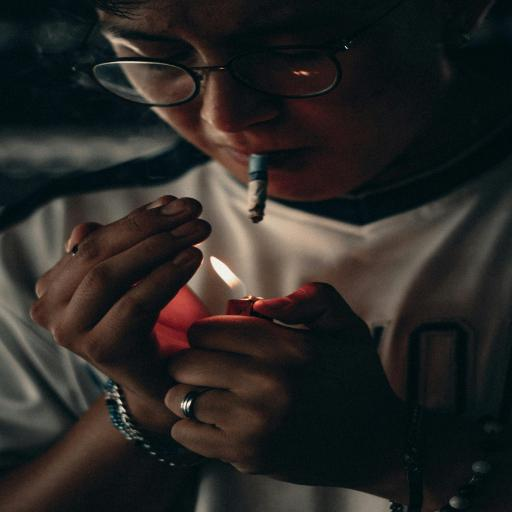membakar rokok: (119, 111, 370, 354)
